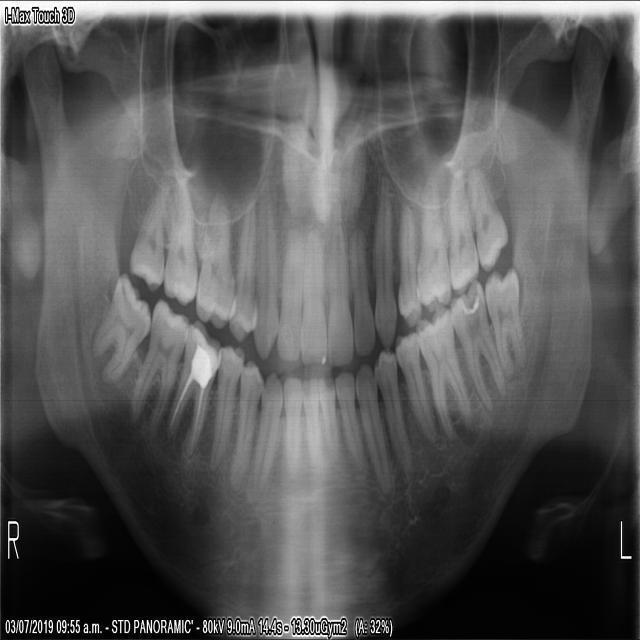LCD: (353, 359, 389, 496)
LCU: (370, 174, 395, 352)
LID: (331, 367, 367, 480), (316, 372, 343, 476)
LIU: (324, 216, 352, 367), (347, 223, 373, 355)
LMD: (446, 274, 505, 416), (412, 300, 470, 442), (481, 261, 525, 380)
LMU: (412, 174, 448, 313), (465, 161, 507, 270), (445, 165, 477, 294)
LPMD: (370, 343, 410, 478), (393, 325, 435, 445)
LPMU: (395, 200, 420, 328)
RCD: (247, 367, 280, 490)
RCU: (248, 185, 278, 360)
RID: (299, 375, 320, 489), (281, 372, 301, 486)
RIU: (297, 222, 326, 364), (273, 218, 301, 360)
RMD: (128, 295, 188, 434), (163, 317, 219, 459), (88, 266, 149, 383)
RMU: (191, 190, 235, 328), (161, 175, 196, 304), (127, 182, 162, 292)
RPMD: (225, 356, 263, 490), (205, 341, 243, 471)
RPMU: (225, 196, 256, 344)
